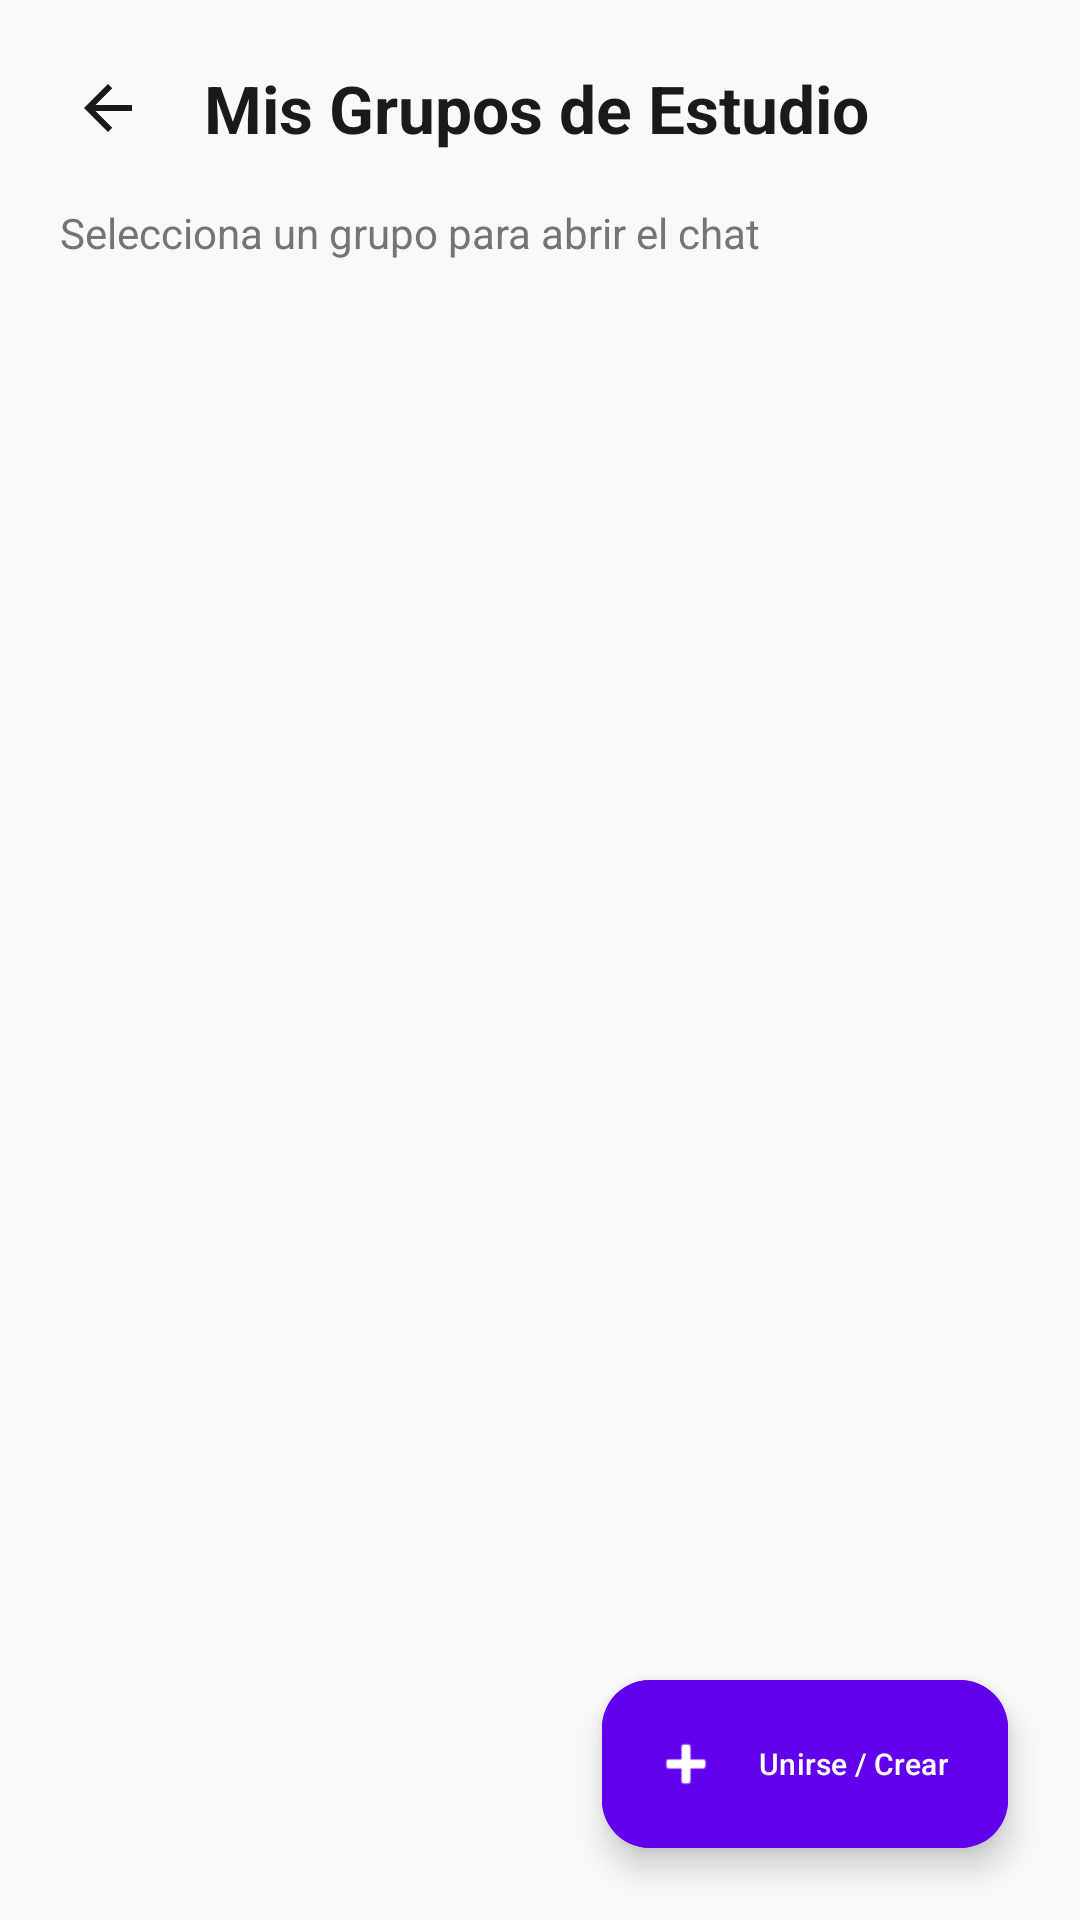

Icons on this 1080x1920 Android screen, each with its box as (x1, y1, x2, y2):
Volver: (84, 84, 132, 132)
